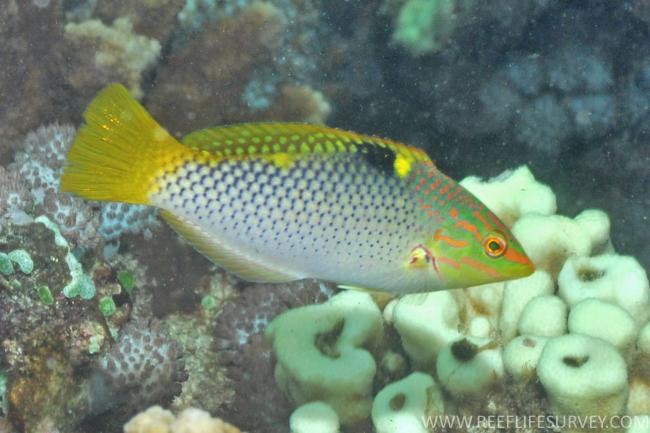fish: (56, 81, 538, 295)
